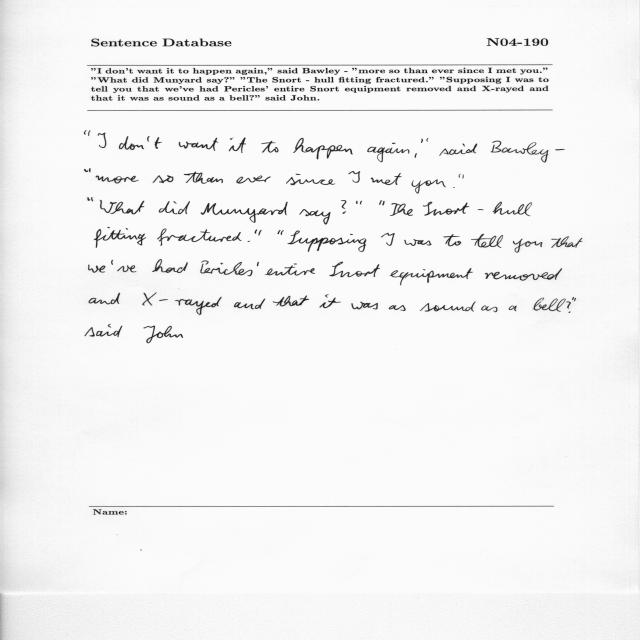word: (142, 292, 222, 315), (201, 202, 288, 223), (288, 230, 366, 252), (157, 229, 242, 246), (390, 268, 473, 285), (491, 141, 549, 163), (293, 138, 353, 159), (94, 227, 146, 248), (485, 268, 562, 281), (200, 261, 259, 277), (367, 143, 410, 162), (329, 262, 380, 277), (143, 326, 183, 343), (533, 297, 576, 312), (423, 202, 469, 216), (100, 200, 144, 214), (119, 136, 162, 150), (265, 264, 315, 276), (419, 302, 476, 312), (492, 202, 532, 216), (286, 174, 335, 185), (412, 179, 446, 194), (179, 138, 218, 151), (184, 171, 223, 184), (152, 259, 188, 273), (300, 209, 331, 225), (439, 143, 477, 156), (85, 324, 122, 337), (471, 234, 503, 248), (513, 239, 542, 253), (159, 201, 190, 214), (273, 296, 309, 307), (371, 173, 402, 185), (552, 236, 583, 248), (96, 176, 139, 184), (89, 293, 120, 304), (234, 299, 265, 309), (319, 295, 341, 309), (111, 260, 136, 272), (390, 203, 413, 216), (229, 137, 247, 153), (236, 176, 271, 184), (261, 141, 279, 153), (443, 234, 461, 246), (351, 302, 378, 310), (404, 239, 431, 246), (381, 233, 395, 246), (152, 175, 174, 183), (414, 139, 423, 158), (98, 132, 107, 148), (348, 171, 360, 183), (89, 265, 106, 273), (481, 306, 498, 313), (389, 305, 406, 311), (341, 200, 347, 214), (255, 229, 262, 236), (509, 306, 517, 311), (85, 130, 91, 136), (379, 201, 385, 206), (278, 230, 284, 235), (85, 169, 91, 173), (356, 201, 362, 205), (459, 174, 464, 178), (88, 198, 93, 202), (555, 149, 565, 150), (427, 138, 429, 142), (478, 209, 483, 210), (569, 311, 571, 313), (247, 241, 250, 242), (453, 187, 455, 188)
